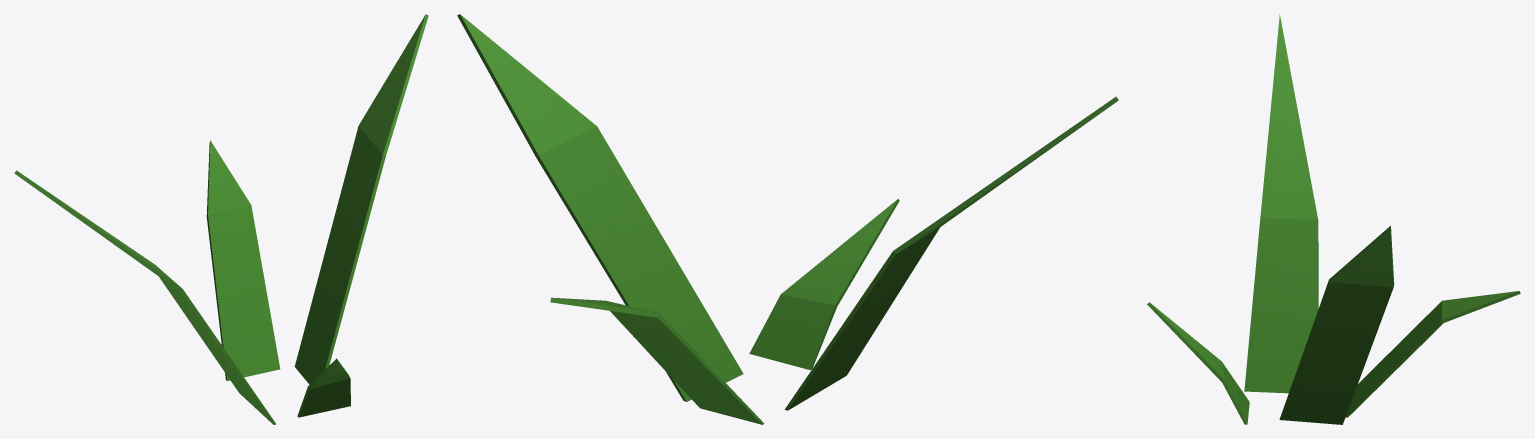
File: Grass_Patch_04_Solidified.fbx
The picture shows the model from 3 angles, left to right: view 1: azimuth 30°, elevation 25°; view 2: azimuth 150°, elevation 25°; view 3: azimuth 270°, elevation 25°; orthographic projection. The views are drawn at different scales.
Visible parts, largest first — view 1: Grass_Patch_04_Solidified; view 2: Grass_Patch_04_Solidified; view 3: Grass_Patch_04_Solidified.
Boxes of the visible parts, x1,y1,x2,y2 form: Grass_Patch_04_Solidified: (14, 14, 428, 424); Grass_Patch_04_Solidified: (457, 14, 1118, 424); Grass_Patch_04_Solidified: (1147, 14, 1520, 424).
Bounding box in the file's own units: 1 × 0.6 × 0.75.
